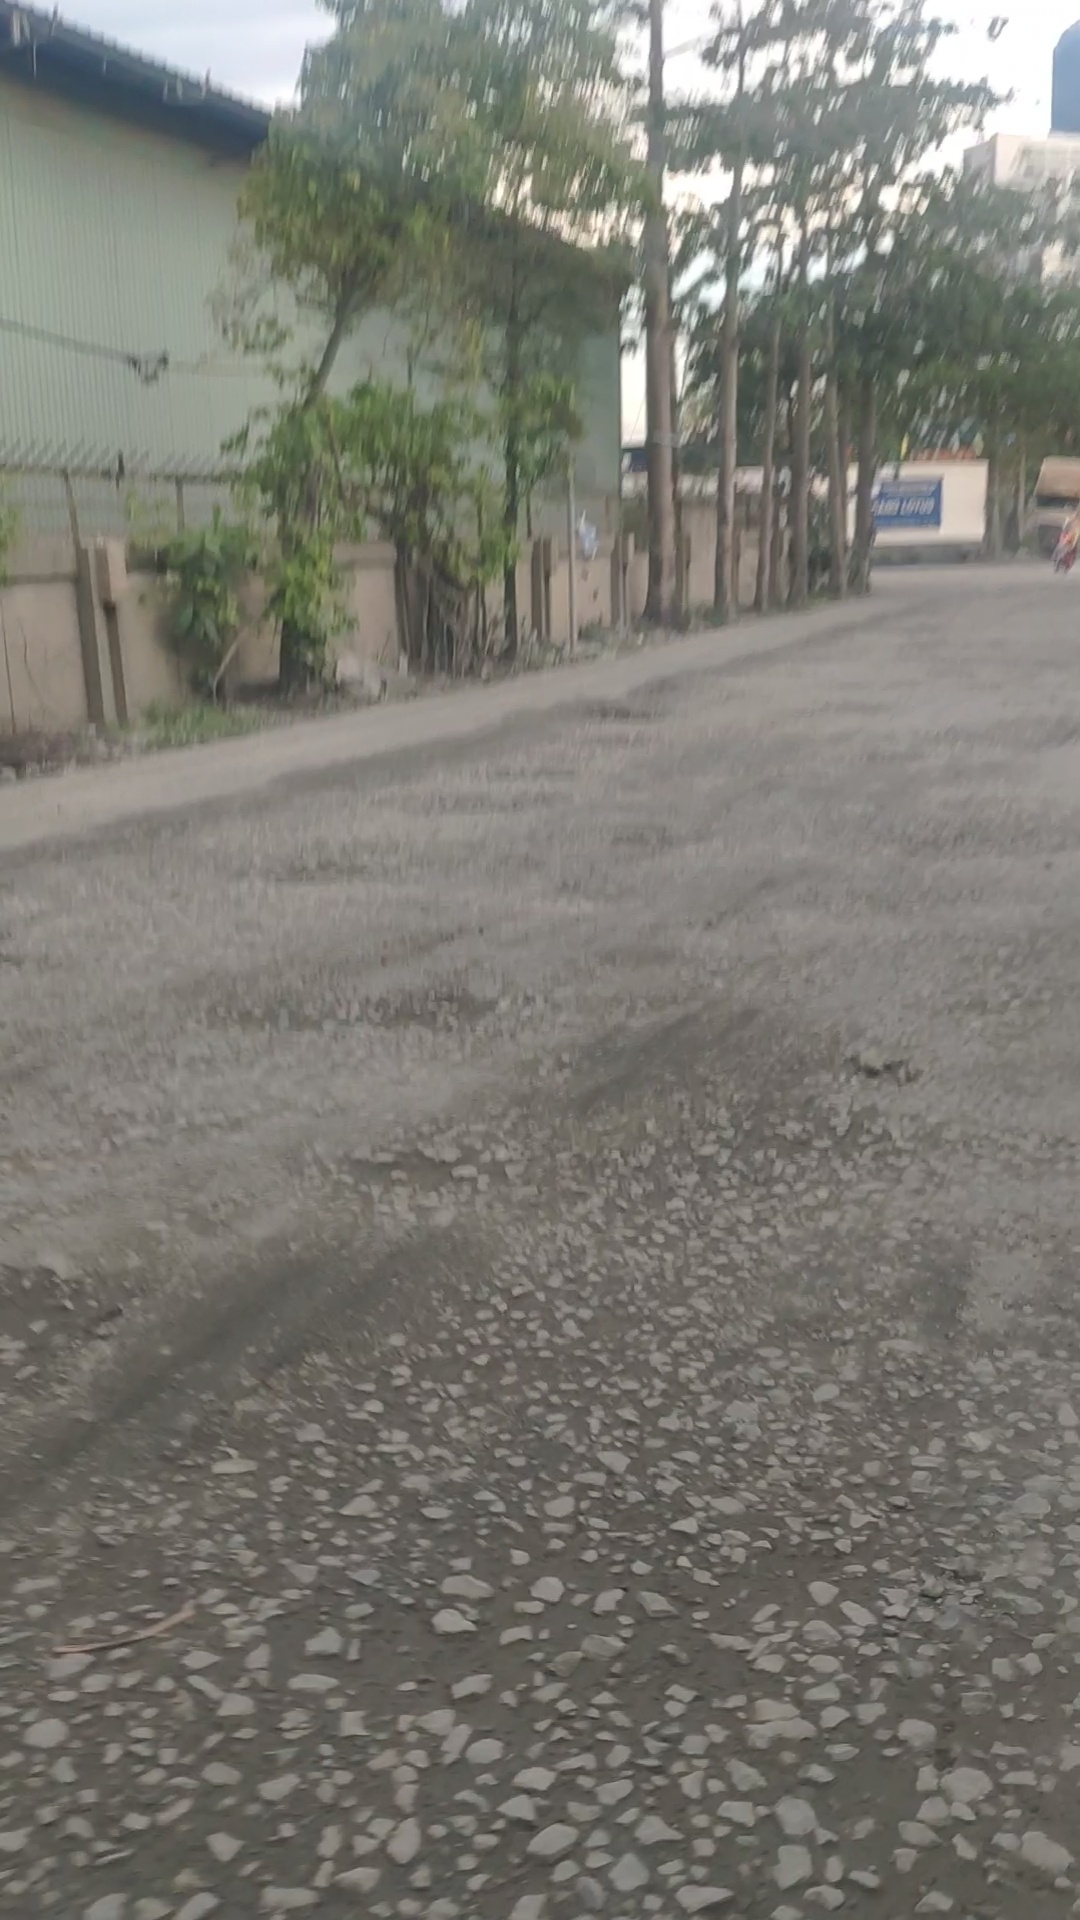hole: (295, 1120, 537, 1251), (208, 837, 556, 901), (822, 794, 1080, 868), (214, 998, 491, 1036), (928, 709, 1080, 760), (367, 785, 584, 816), (589, 818, 717, 870), (542, 698, 692, 727)
